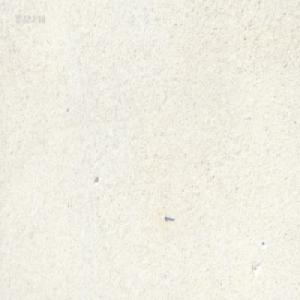Nail: (164, 214, 174, 222)
